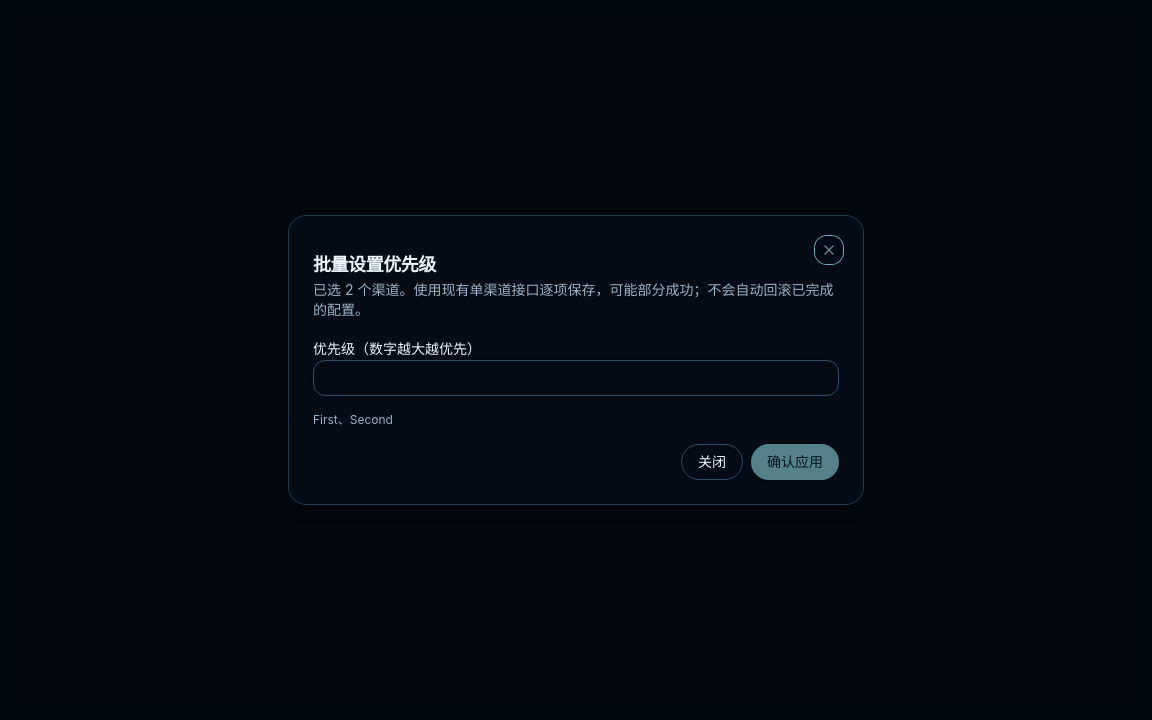
Test: batch edits and retry › retries only failed items and retains previous successes in the summary
Type "4" into the number field labelled "优先级（数字越大越优先）" at x=576, y=378, box [313,360,839,396]
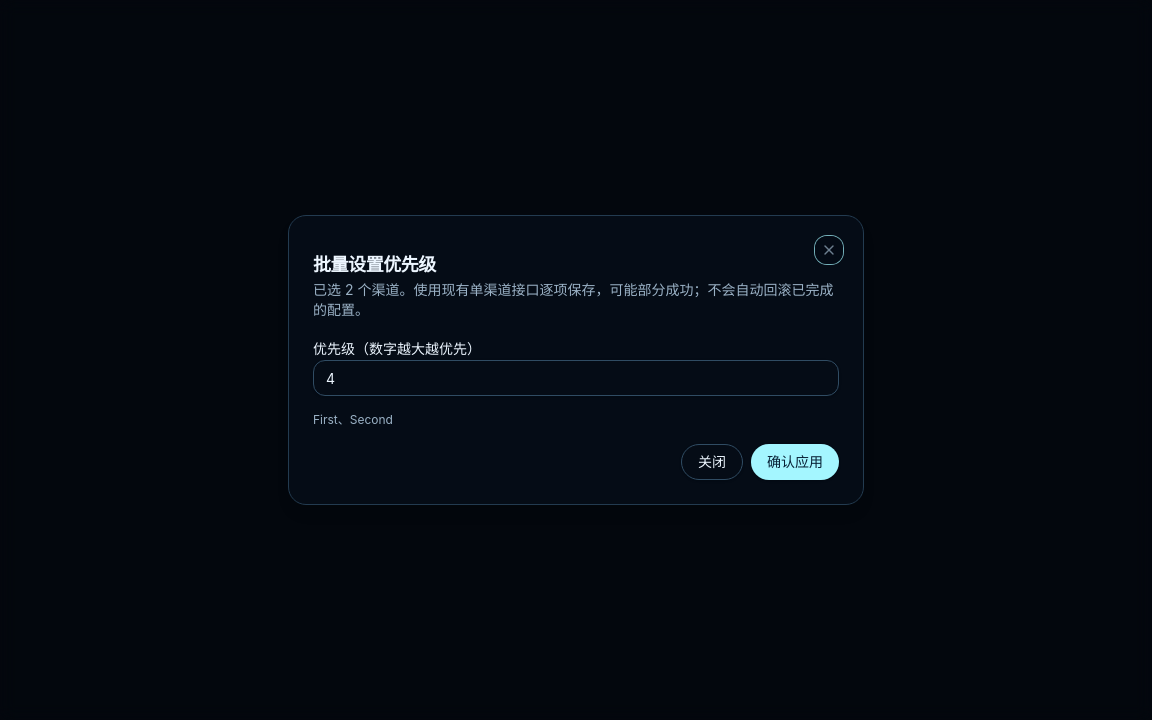
Click the button "确认应用" at x=795, y=462, box [751,444,839,480]
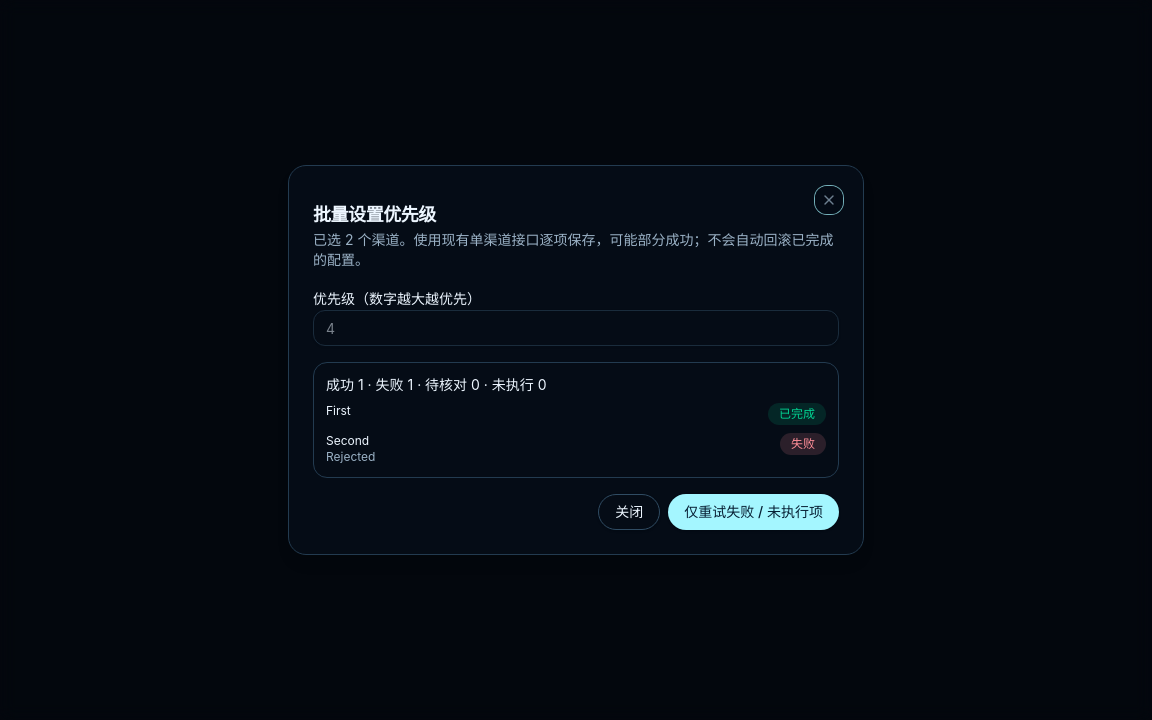
Now the button "仅重试失败 / 未执行项" is enabled
Now the text "成功 1 · 失败 1 · 待核对 0 · 未执行 0" is shown, box [326,376,547,393]
Click the button "仅重试失败 / 未执行项" at x=754, y=512, box [668,494,839,530]
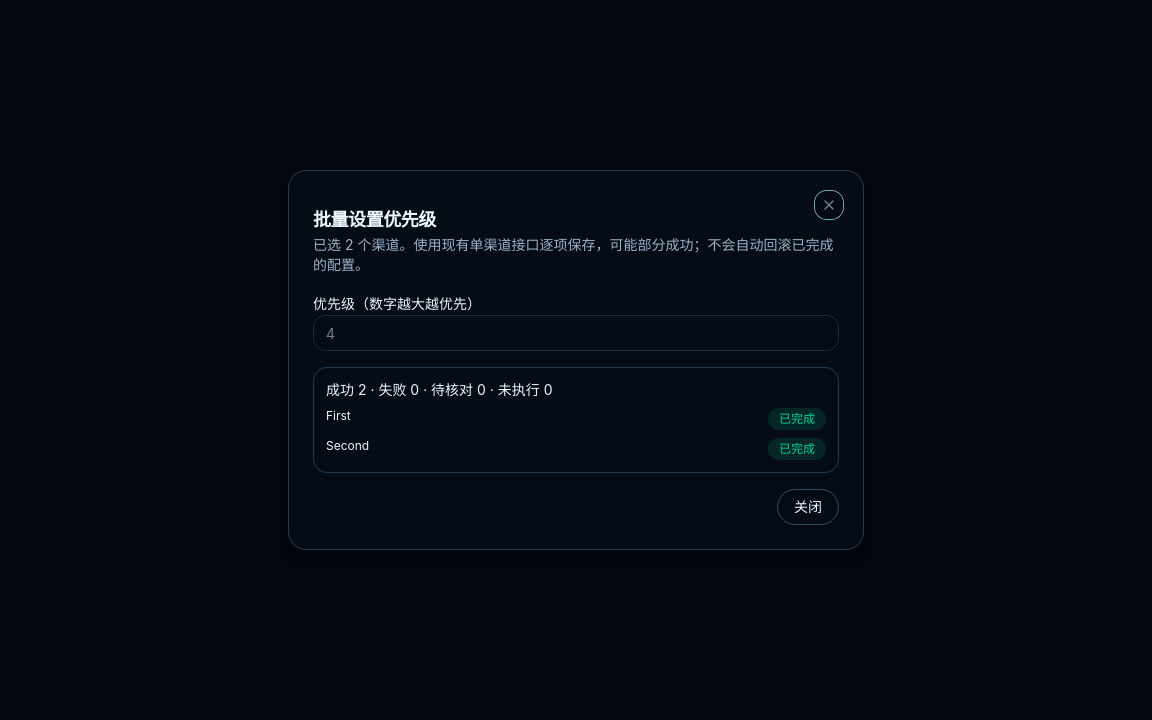
Now the text "成功 2 · 失败 0 · 待核对 0 · 未执行 0" is shown, box [326,381,553,398]
